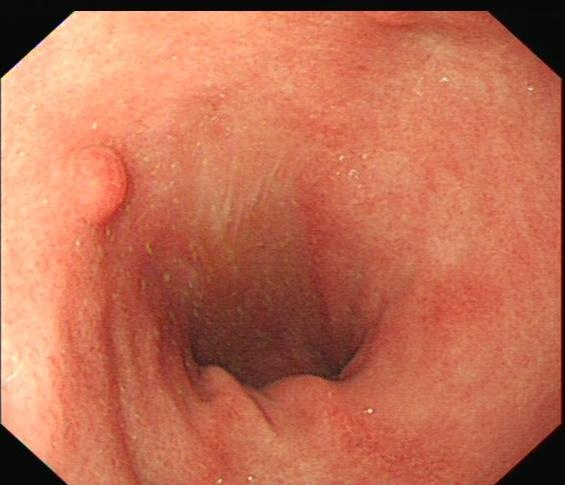Polyp: (60, 138, 134, 228)
